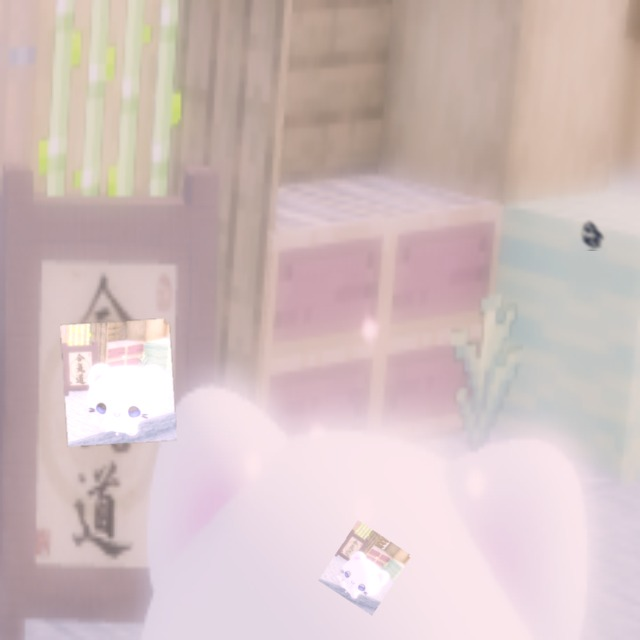urso_branco: (60, 318, 177, 447), (318, 520, 412, 616)
urso_preto: (578, 219, 607, 251)
